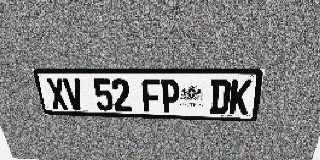2: (111, 79, 131, 111)
5: (93, 78, 114, 111)
D: (209, 79, 231, 114)
F: (141, 79, 161, 112)
K: (228, 80, 252, 114)
P: (161, 79, 179, 113)
V: (62, 78, 85, 110)
X: (45, 78, 69, 110)
